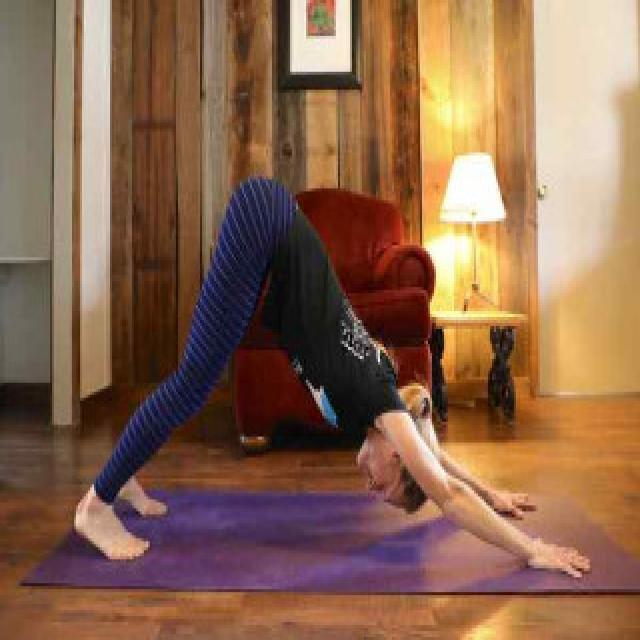yoga-pose downward: (69, 174, 581, 582)
